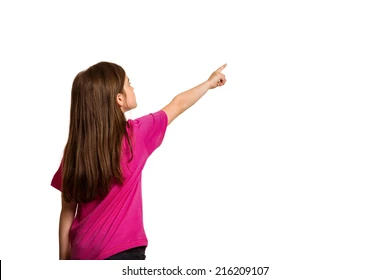pointing_gesture: (203, 63, 230, 93)
